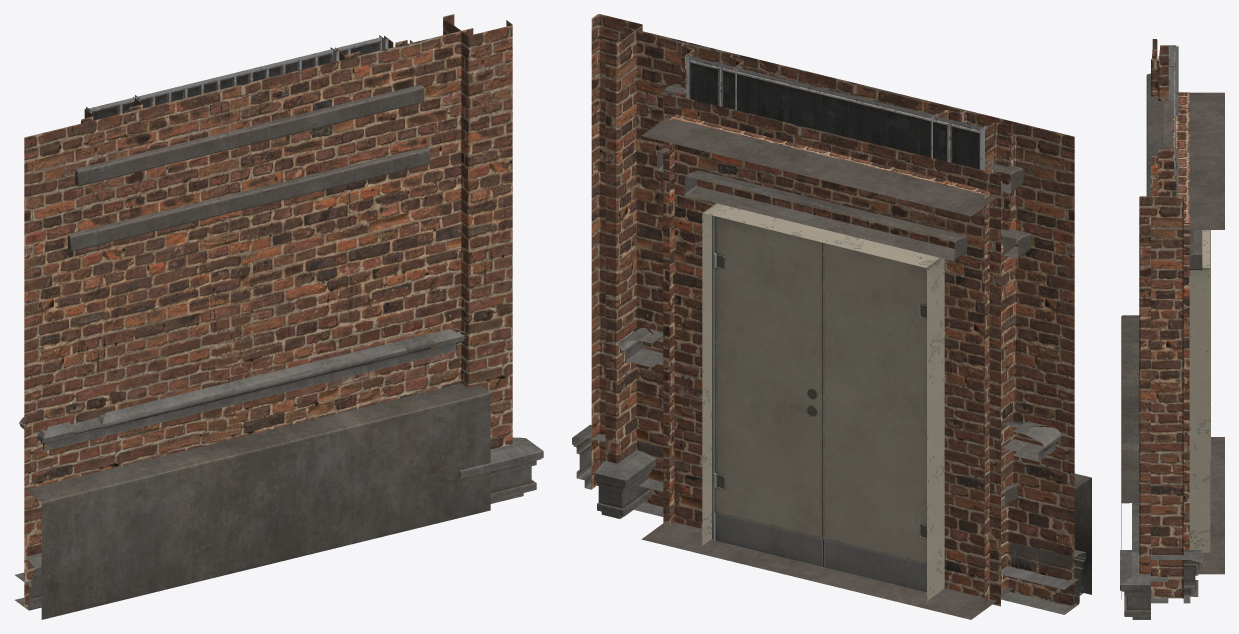
File: kit_factory.glb
3 renders of one model, left to right at view 1: azimuth 30°, elevation 25°; view 2: azimuth 150°, elevation 25°; view 3: azimuth 270°, elevation 25°, orthographic. The views are drawn at different scales.
Parts seen in each view (by area): view 1: plain, door, shop, double, small, offset, pier, large, crown_pier; view 2: door, shop, pier, plain, small, double, large, crown_pier, crown; view 3: door, pier, crown_pier, small, shop, crown, large.
Part boxes in pixels (x1,y1,x2,y2): plain: (24, 48, 461, 481); door: (24, 55, 490, 619); shop: (19, 35, 490, 505); double: (17, 44, 461, 610); small: (15, 28, 473, 609); offset: (24, 50, 460, 609); pier: (443, 14, 512, 449); large: (15, 39, 461, 610); crown_pier: (459, 437, 543, 503); door: (624, 27, 1091, 619); shop: (619, 42, 1091, 594); pier: (591, 14, 642, 489); plain: (637, 43, 1074, 534); small: (635, 53, 1079, 614); double: (637, 74, 1079, 614); large: (634, 58, 1079, 614); crown_pier: (572, 424, 655, 518); crown: (652, 455, 1085, 604); door: (1121, 73, 1224, 574); pier: (1139, 196, 1183, 598); crown_pier: (1120, 550, 1202, 619); small: (1151, 59, 1178, 603); shop: (1121, 39, 1178, 599); crown: (1132, 503, 1139, 550); large: (1151, 45, 1171, 603).
Bounding box in the file's own units: 3.35 × 3 × 0.71.
Materials: 6 (6 with a texture image).
